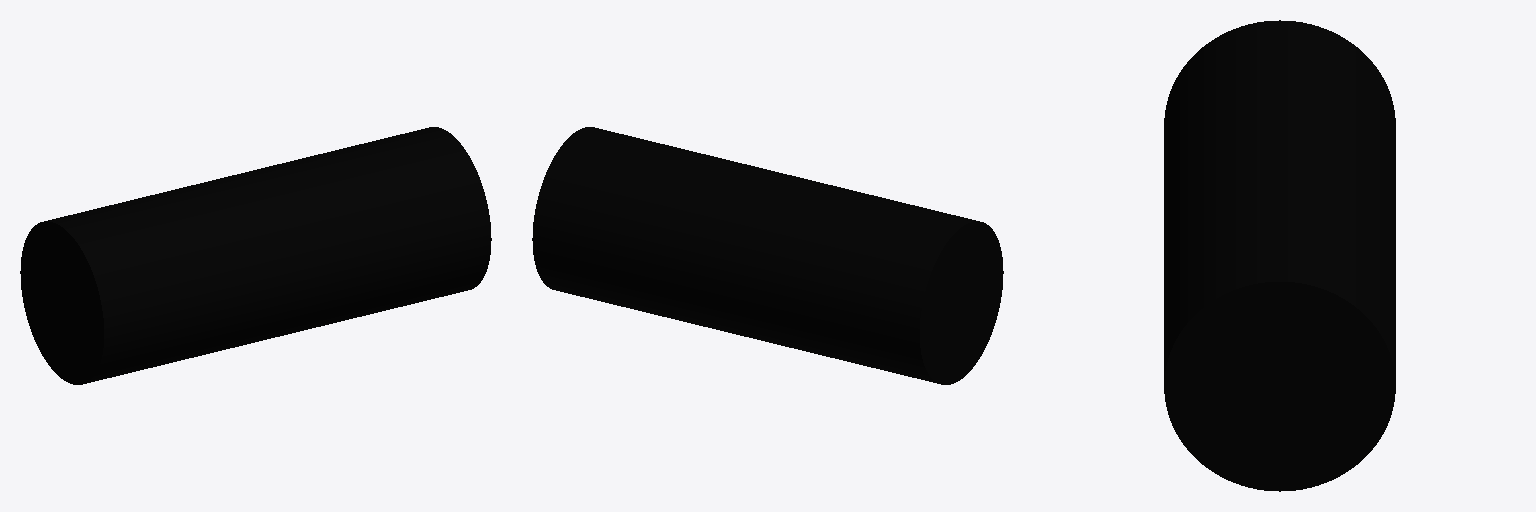
The robot description file, URDF, robot "luxtac_peg_horz":
<?xml version="1.0"?>
<!-- peg, long axis at 90 deg in the pad plane.
     Generated by scripts/make_luxtac_objs.py. Metres, centred on x,y, cross-section
     centre at z = 0.0452 (the pad centre once staged). Long axis at 90 deg in
     the x-z plane: 0 = along the finger, 90 = across it. Length 40mm,
     mass 1.500000 kg.

     The link is named 'cube' because TacSL resolves the indenter link by name. -->
<robot name="luxtac_peg_horz">
    <link name="cube">
        <visual>
            <geometry><mesh filename="../mesh/luxtac_peg_horz.obj"/></geometry>
            <material name="black"><color rgba="0.05 0.05 0.05 1"/></material>
        </visual>
        <collision>
            <geometry><mesh filename="../mesh/luxtac_peg_horz.obj"/></geometry>
            <sdf resolution="256"/>  <!-- 0.156mm voxels -->
        </collision>
        <inertial>
            <origin rpy="0 0 0" xyz="0 0 0.0452"/>
            <mass value="1.500000"/>
            <inertia ixx="4.215739e-05" ixy="0" ixz="0" iyy="2.210787e-04" iyz="0" izz="2.210787e-04"/>
        </inertial>
    </link>
</robot>

--- Facts derived from the render (not from the file) ---
The picture shows the robot from 3 angles, left to right: view 1: azimuth 30°, elevation 25°; view 2: azimuth 150°, elevation 25°; view 3: azimuth 270°, elevation 25°; orthographic projection.
Model luxtac_peg_horz with 1 links and 0 joints (none), rooted at cube, posed all joints at 0.
Visible links, largest first — view 1: cube; view 2: cube; view 3: cube.
Link boxes in pixels (left/top/right/bottom): cube: left=20, top=127, right=491, bottom=384; cube: left=532, top=127, right=1003, bottom=384; cube: left=1164, top=20, right=1395, bottom=491.
Bounding box of the posed robot: 0.04 × 0.015 × 0.015 m (x, y, z).
Meshes: 1 distinct files referenced, 1 mesh visuals loaded (1 OBJ).
